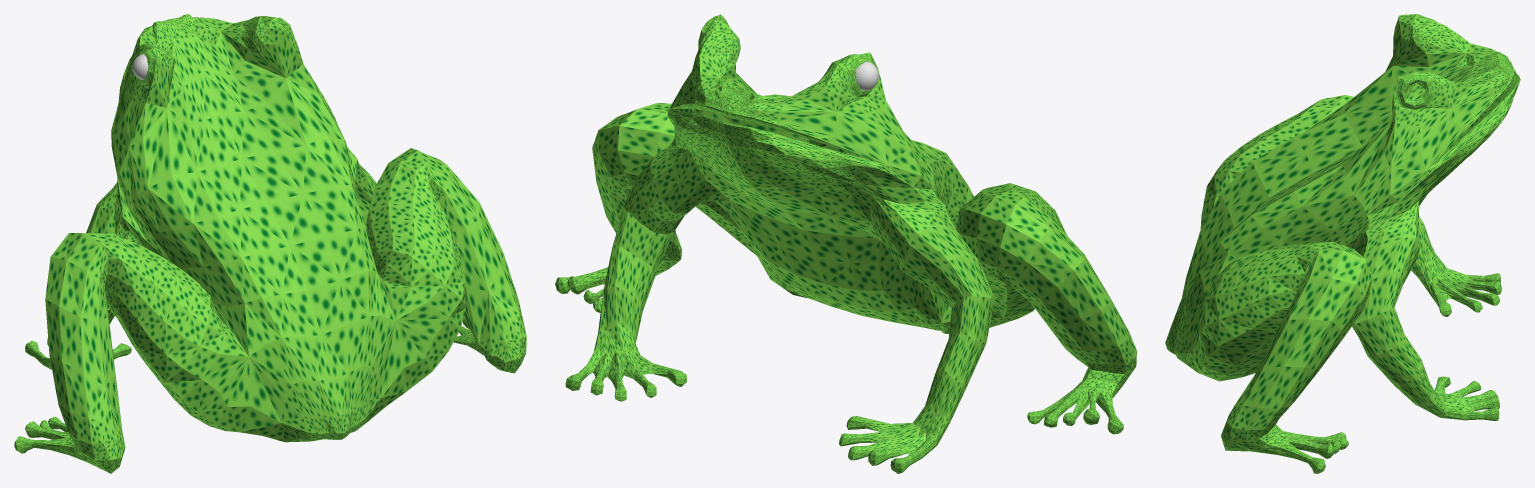
Rendered from frog.fbx.
3 renders of one model, left to right at view 1: azimuth 30°, elevation 25°; view 2: azimuth 150°, elevation 25°; view 3: azimuth 270°, elevation 25°, orthographic. The views are drawn at different scales.
Parts seen in each view (by area): view 1: frog; view 2: frog; view 3: frog.
Part boxes in pixels (box(x1,y1,x2,y2)): frog: box(14, 14, 526, 473); frog: box(555, 14, 1136, 473); frog: box(1165, 14, 1520, 473).
Bounding box in the file's own units: 8.65 × 5.39 × 5.47.
